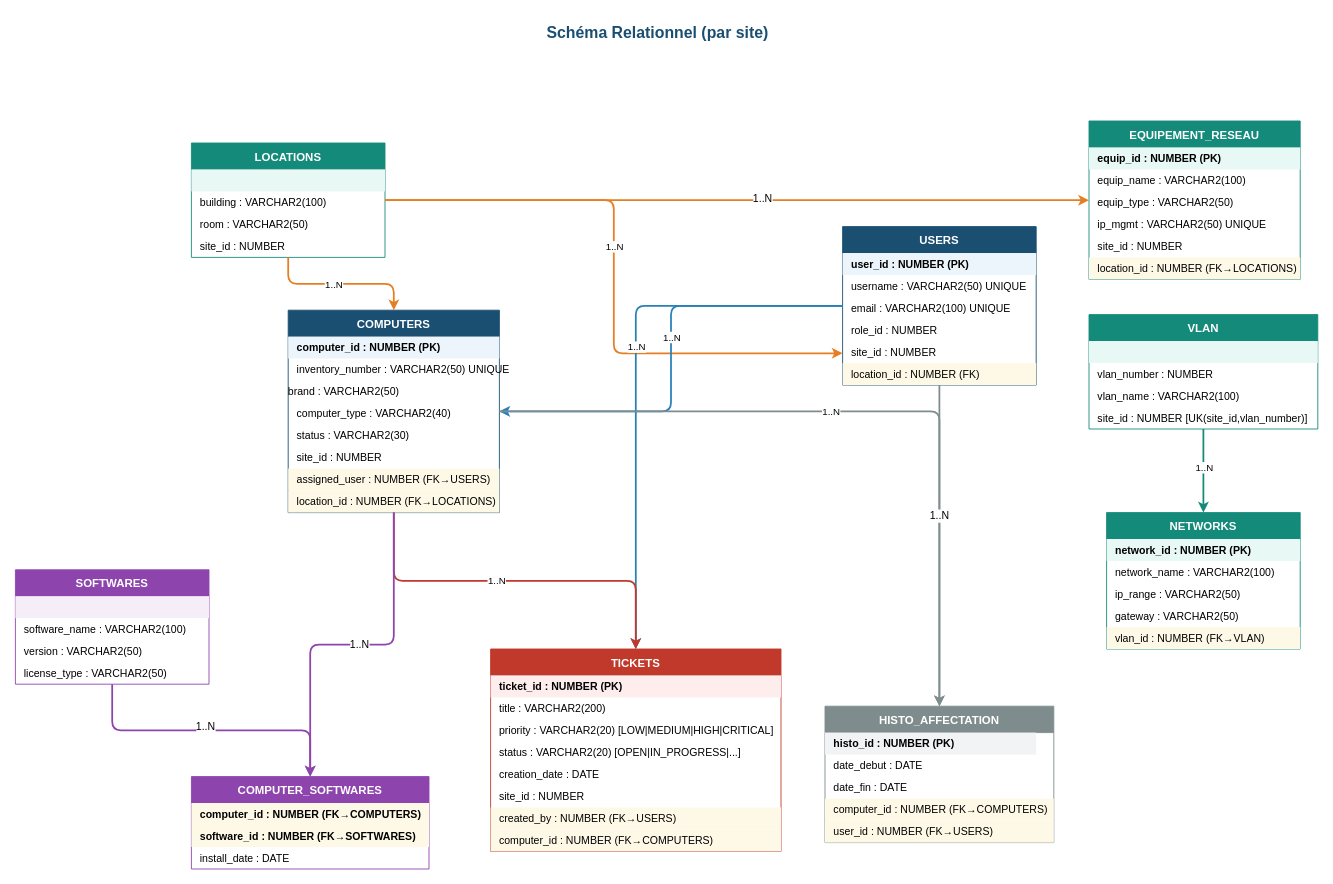
Some shapes in this 1333 by 884 pixel diagram are drawn without their labels. Each missing label, with the centre of its shape:
"location_id : NUMBER (PK)" goes at point (288, 180).
"software_id : NUMBER (PK)" goes at point (112, 607).
"vlan_id : NUMBER (PK)" goes at point (1203, 352).
